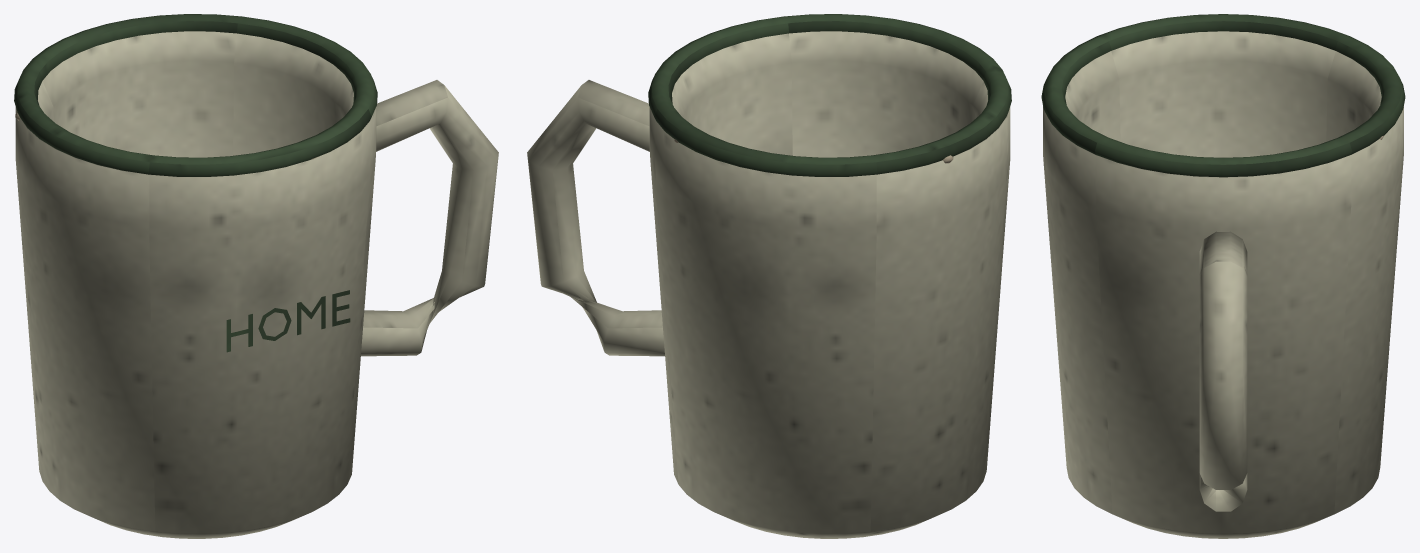
The model's file is prop_chipped_coffee_mug.glb.
3 views of the same model, side by side, from view 1: azimuth 30°, elevation 25°; view 2: azimuth 150°, elevation 25°; view 3: azimuth 270°, elevation 25° (orthographic).
Visible parts, largest first — view 1: prop_chipped_coffee_mug; view 2: prop_chipped_coffee_mug; view 3: prop_chipped_coffee_mug.
Boxes of the visible parts, x1=… form: prop_chipped_coffee_mug: x1=14, y1=14, x2=498, y2=538; prop_chipped_coffee_mug: x1=527, y1=14, x2=1011, y2=538; prop_chipped_coffee_mug: x1=1041, y1=14, x2=1405, y2=538.
Bounding box in the file's own units: 0.111 × 0.0925 × 0.0768.
4 materials, 2 textured.
